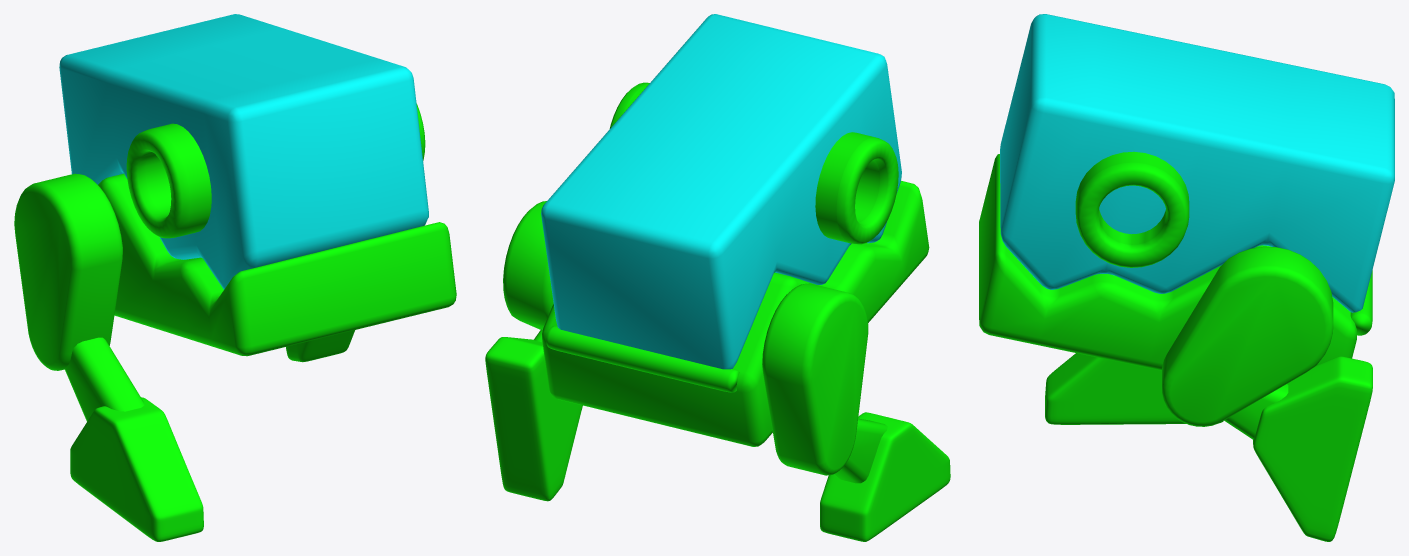
3 renders of one model, left to right at view 1: azimuth 30°, elevation 25°; view 2: azimuth 150°, elevation 25°; view 3: azimuth 270°, elevation 25°, orthographic. The views are drawn at different scales.
Parts seen in each view (by area): view 1: Top_Jaw, Lower_Jaw, Thighs_Left, Feet_Left, Eyes, Shin_Left, Feet_Right; view 2: Top_Jaw, Lower_Jaw, Thighs_Left, Feet_Right, Feet_Left, Eyes, Thighs_Right, Hinge, Shin_Left; view 3: Top_Jaw, Thighs_Right, Lower_Jaw, Feet_Right, Eyes, Feet_Left, Shin_Right, Hinge.
Part boxes in pixels (x1=…): Top_Jaw: x1=59, y1=14, x2=428, y2=289; Lower_Jaw: x1=98, y1=173, x2=456, y2=356; Thighs_Left: x1=14, y1=173, x2=122, y2=370; Feet_Left: x1=70, y1=397, x2=203, y2=541; Eyes: x1=126, y1=104, x2=425, y2=238; Shin_Left: x1=65, y1=337, x2=144, y2=421; Feet_Right: x1=286, y1=330, x2=354, y2=362; Top_Jaw: x1=541, y1=14, x2=901, y2=369; Lower_Jaw: x1=542, y1=180, x2=929, y2=446; Thighs_Left: x1=762, y1=283, x2=868, y2=475; Feet_Right: x1=485, y1=337, x2=582, y2=501; Feet_Left: x1=820, y1=412, x2=950, y2=541; Eyes: x1=609, y1=82, x2=898, y2=244; Thighs_Right: x1=503, y1=201, x2=553, y2=329; Hinge: x1=546, y1=326, x2=739, y2=392; Shin_Left: x1=834, y1=418, x2=887, y2=483; Top_Jaw: x1=1000, y1=14, x2=1394, y2=312; Thighs_Right: x1=1162, y1=246, x2=1333, y2=426; Lower_Jaw: x1=979, y1=154, x2=1356, y2=370; Feet_Right: x1=1253, y1=356, x2=1372, y2=541; Eyes: x1=1075, y1=151, x2=1189, y2=267; Feet_Left: x1=1045, y1=353, x2=1223, y2=424; Shin_Right: x1=1224, y1=384, x2=1288, y2=439; Hinge: x1=1350, y1=270, x2=1372, y2=335.
Bounding box in the file's own units: 2.03 × 2.52 × 2.22.
